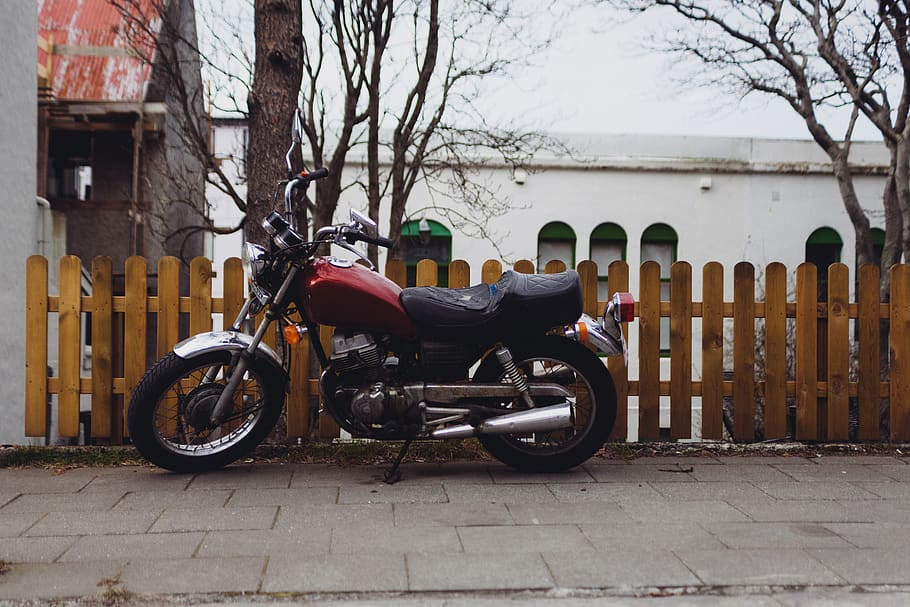Arbol: (205, 2, 445, 288), (747, 4, 910, 303)
Muro: (38, 5, 207, 270)
Valla: (23, 249, 910, 468)
Vehiculo: (123, 166, 640, 496)
